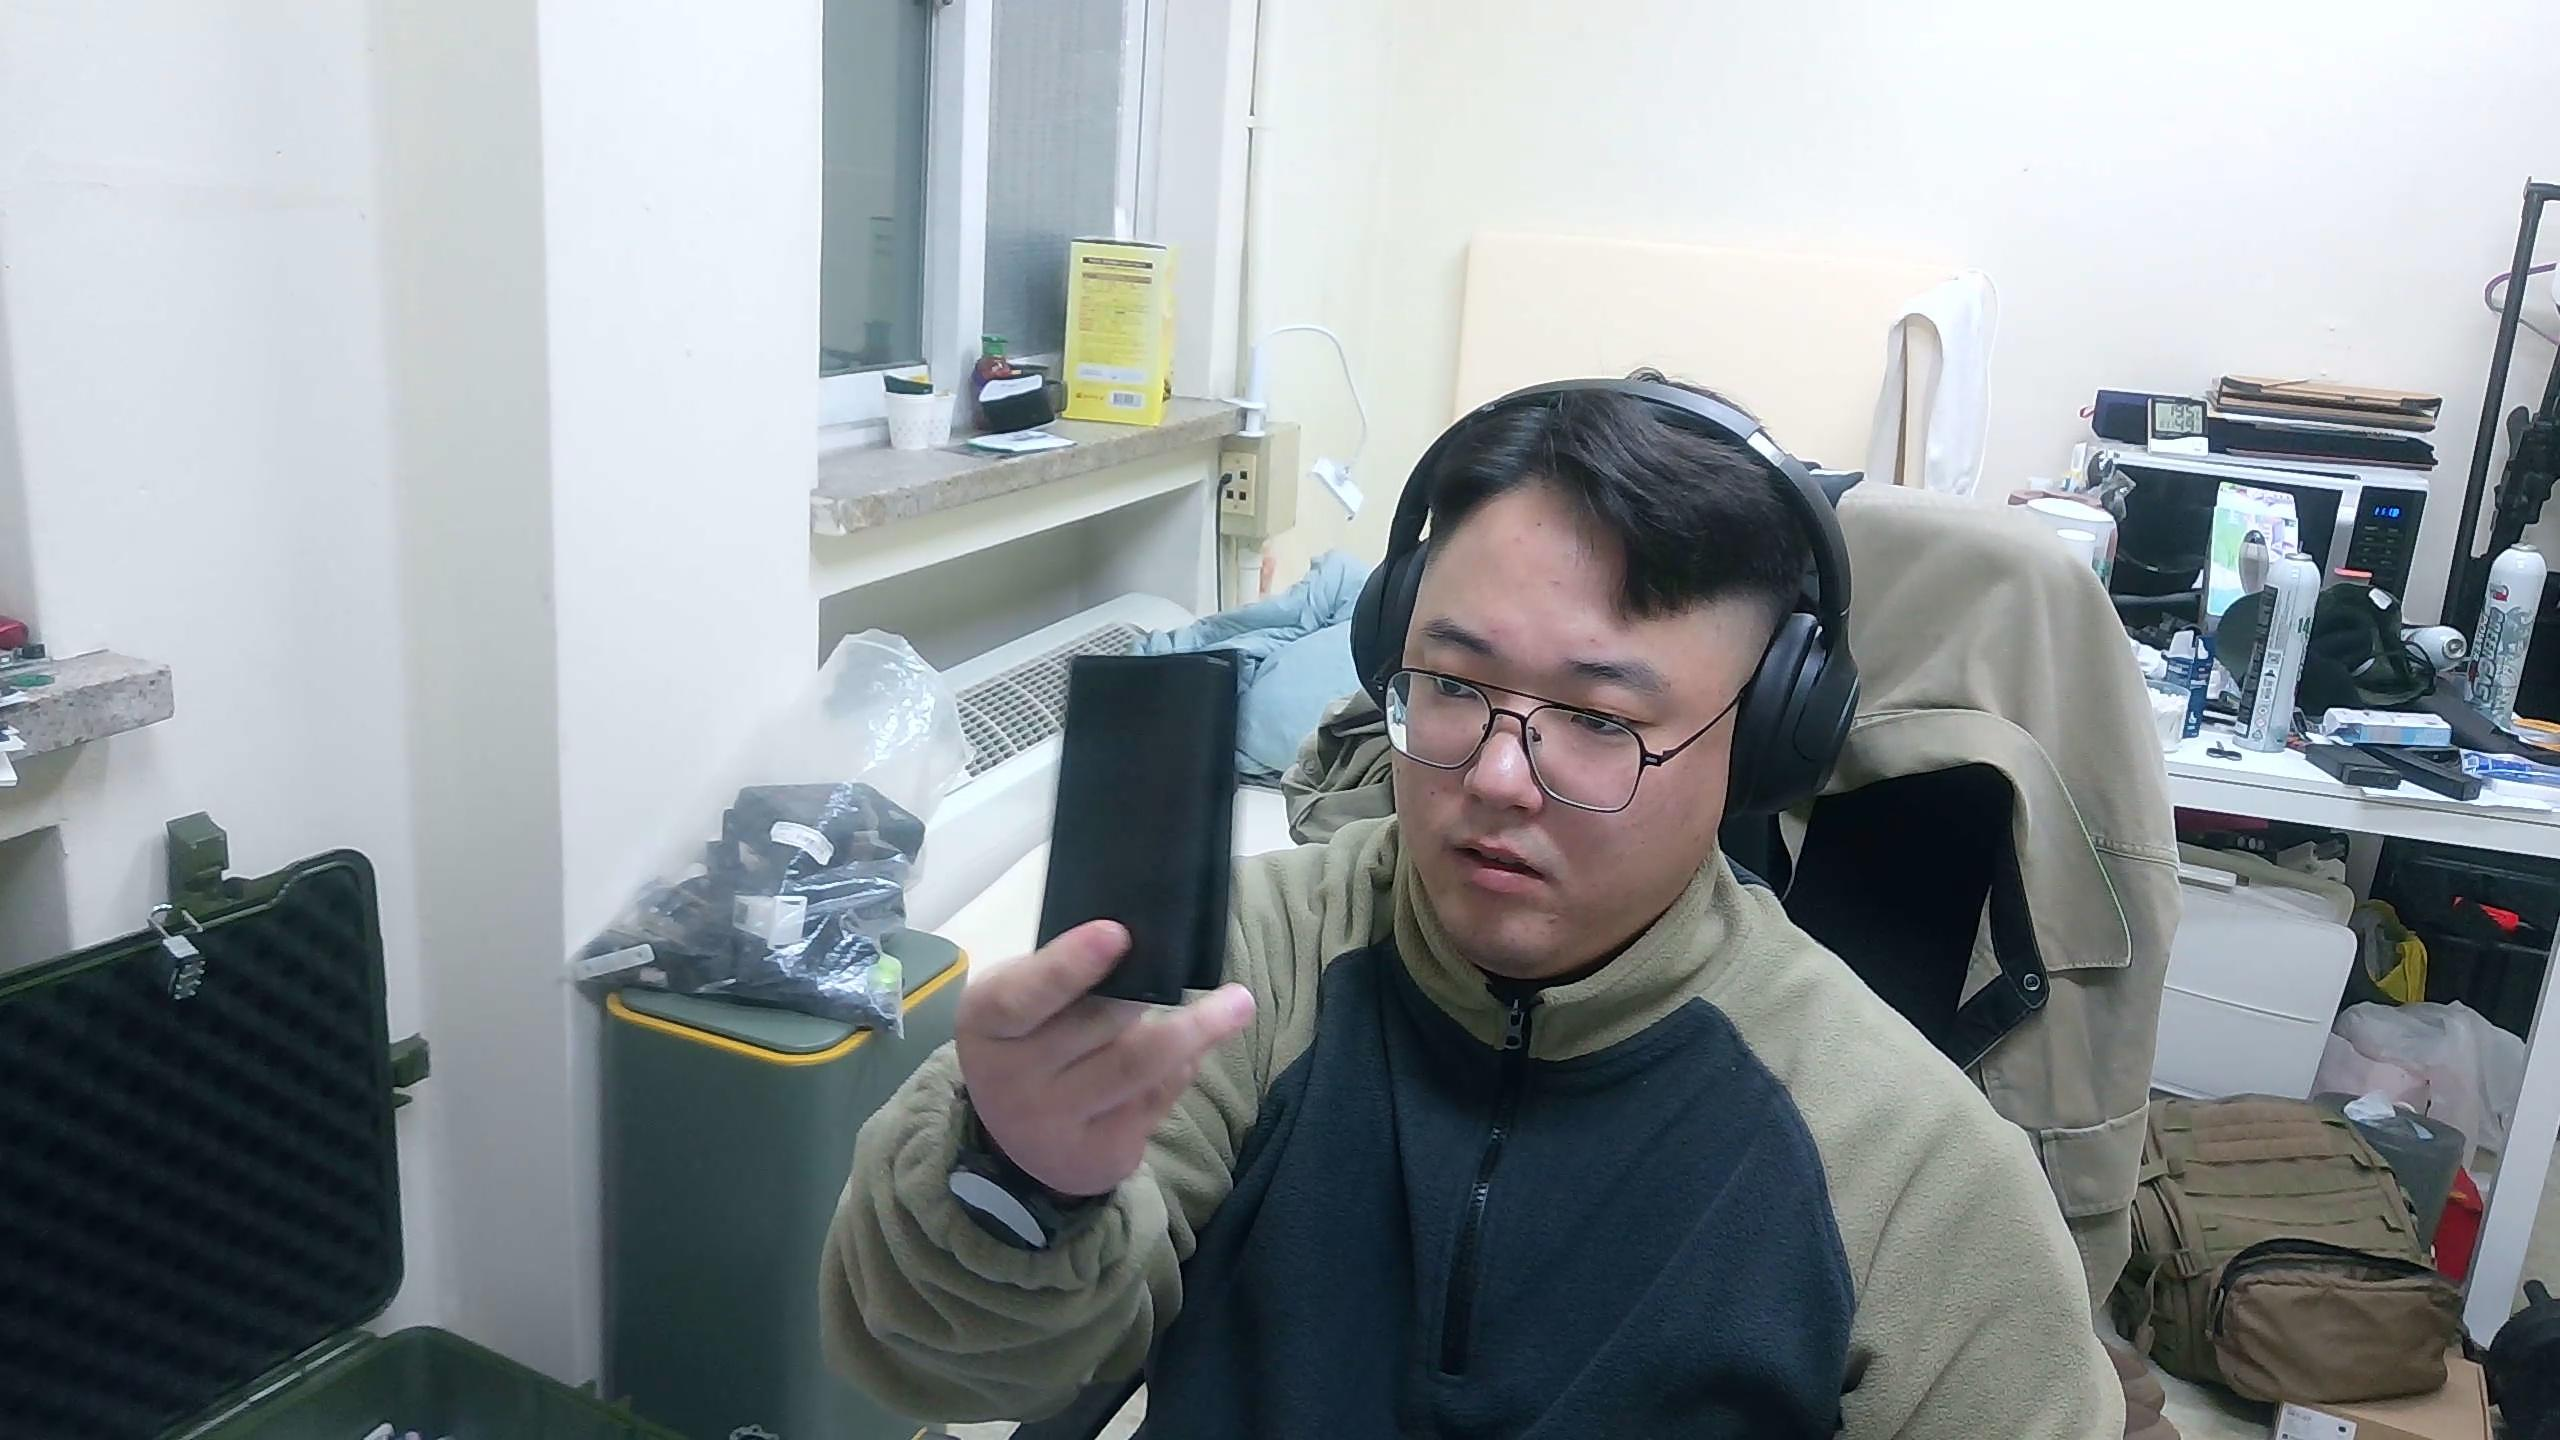Wallet: (1036, 645, 1245, 1011)
